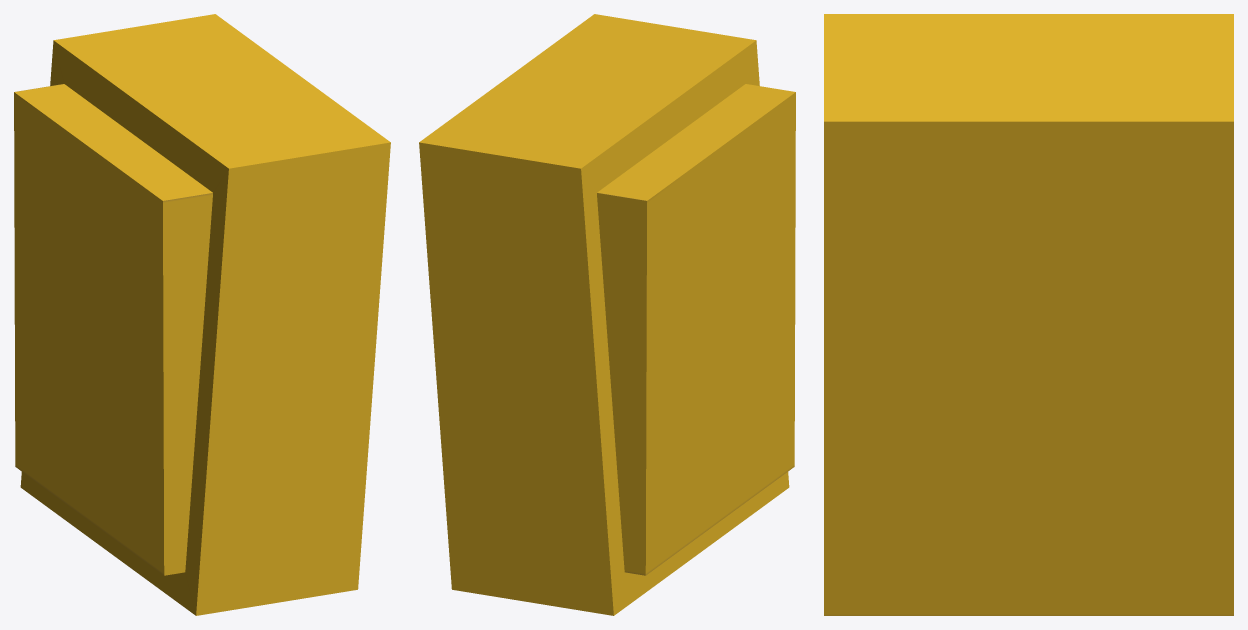
The model's file is Panicbutton.fbx.
The picture shows the model from 3 angles, left to right: view 1: azimuth 30°, elevation 25°; view 2: azimuth 150°, elevation 25°; view 3: azimuth 270°, elevation 25°; orthographic projection. The views are drawn at different scales.
Visible parts, largest first — view 1: Cube; view 2: Cube; view 3: Cube.
Boxes of the visible parts, x1=… form: Cube: x1=14, y1=14, x2=390, y2=615; Cube: x1=419, y1=14, x2=795, y2=615; Cube: x1=824, y1=14, x2=1233, y2=615.
Size of the model in its own units: 10.2 by 20.54 by 14.44.
